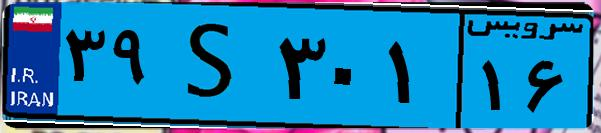0: (330, 28, 385, 110)
1: (385, 28, 445, 110), (475, 38, 525, 113)
3: (270, 28, 330, 110), (57, 26, 110, 100)
6: (525, 38, 570, 115)
9: (110, 28, 158, 98)
S: (158, 12, 270, 120)
